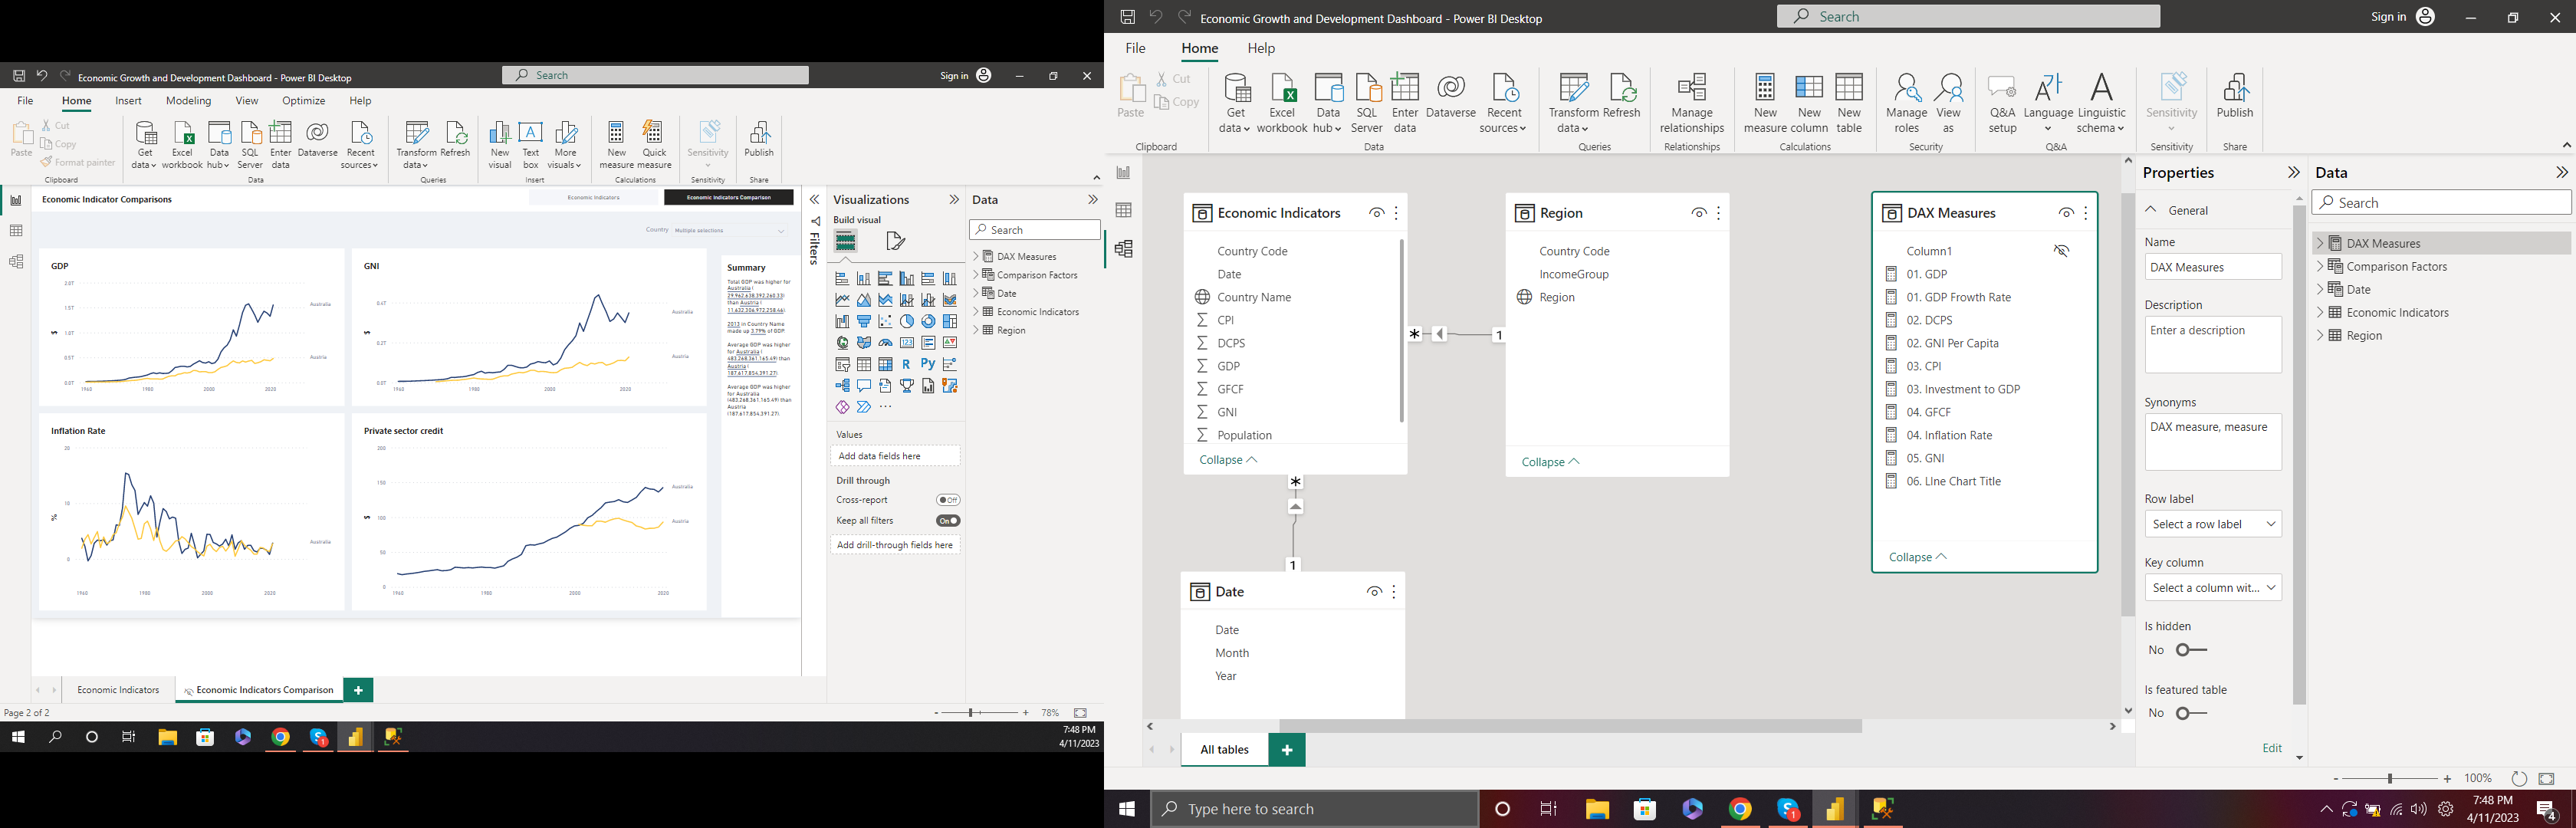

Layout of this report page (visuals, bound fields, positions):
{"tool":"powerbi","page":{"name":"Economic Indicators Comparison","canvas":[1280,720],"ordinal":1},"visuals":[{"type":"slicer","title":"Country","fields":{"Values":["Economic Indicators.Country Name"]},"box":[1048.5,54,218.7,37.2],"z":0,"group":"g1"},{"type":"shape","box":[0,2.7,1279.7,41.6],"z":0},{"type":"textbox","title":"Country","box":[977.7,66.4,86.8,18.6],"z":1000,"group":"g1"},{"type":"textbox","title":"Economic Indicator Comparisons","box":[12.4,14.2,310,18.6],"z":1000},{"type":"group","id":"g1","title":"Group 2","box":[977.7,54,289.6,37.2],"z":2000},{"type":"lineChart","title":"GDP","fields":{"Category":["Date.Year"],"Y":["DAX Measures.01. GDP"],"Series":["Economic Indicators.Country Name"]},"box":[12.4,105.4,508.3,262.1],"z":3000},{"type":"lineChart","title":"Inflation Rate","fields":{"Category":["Date.Year"],"Series":["Economic Indicators.Country Name"],"Y":["DAX Measures.03. CPI"]},"box":[12.4,379.9,508.3,327.7],"z":4000},{"type":"lineChart","title":"GNI","fields":{"Category":["Date.Year"],"Series":["Economic Indicators.Country Name"],"Y":["DAX Measures.04. GFCF"]},"box":[533.1,105.4,589.8,262.1],"z":5000},{"type":"lineChart","title":"Private sector credit","fields":{"Category":["Date.Year"],"Series":["Economic Indicators.Country Name"],"Y":["DAX Measures.02. DCPS"]},"box":[533.1,379.9,589.8,327.7],"z":6000},{"type":"textbox","title":"Summary","box":[1135.4,105.4,132,602.2],"z":7000},{"type":"pageNavigator","box":[827.2,8,440.1,26.6],"z":8000}]}

Visuals, with their boxes on the page's 1280x720 design canvas (x1, y1, x2, y2). These are canvas units, not pixel positions in the 2576x828 screenshot, which may show the page scaled, cropped or inside an application window:
"Country" slicer: [left=1048, top=54, right=1267, bottom=91]
shape: [left=0, top=3, right=1280, bottom=44]
"Country" textbox: [left=978, top=66, right=1064, bottom=85]
"Economic Indicator Comparisons" textbox: [left=12, top=14, right=322, bottom=33]
"Group 2" group: [left=978, top=54, right=1267, bottom=91]
"GDP" lineChart: [left=12, top=105, right=521, bottom=368]
"Inflation Rate" lineChart: [left=12, top=380, right=521, bottom=708]
"GNI" lineChart: [left=533, top=105, right=1123, bottom=368]
"Private sector credit" lineChart: [left=533, top=380, right=1123, bottom=708]
"Summary" textbox: [left=1135, top=105, right=1267, bottom=708]
pageNavigator: [left=827, top=8, right=1267, bottom=35]
